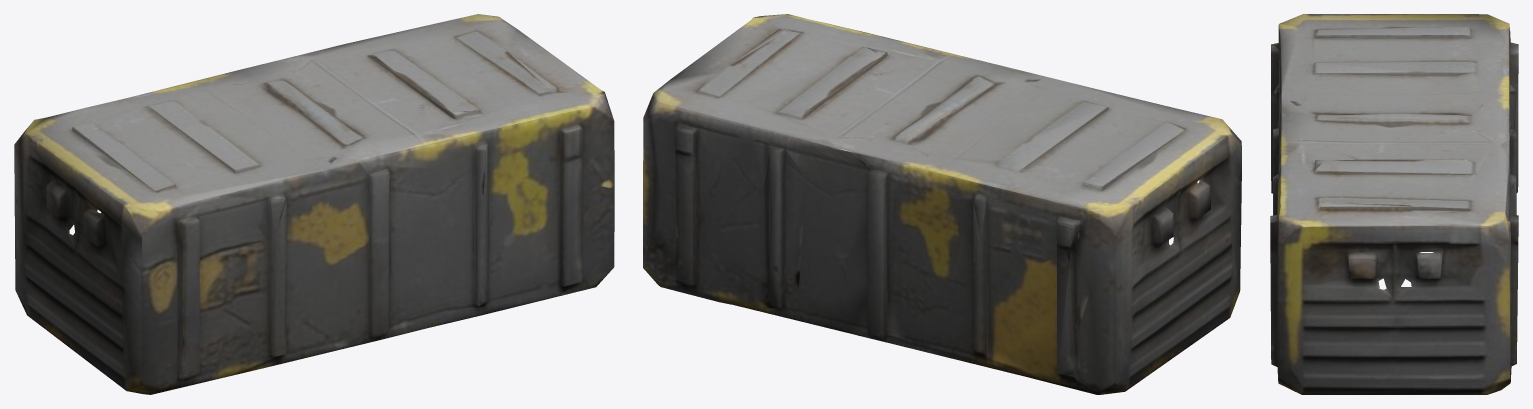
Rendered from crate.glb.
3 views of the same model, side by side, from view 1: azimuth 30°, elevation 25°; view 2: azimuth 150°, elevation 25°; view 3: azimuth 270°, elevation 25° (orthographic). The views are drawn at different scales.
Visible parts, largest first — view 1: crate; view 2: crate; view 3: crate.
Part boxes in pixels (x1,y1,x2,y2): crate: [14, 14, 614, 394]; crate: [643, 14, 1241, 394]; crate: [1270, 14, 1518, 394].
Size of the model in its own units: 0.9969 by 0.3863 by 0.4828.
Materials: 1 (1 with a texture image).
